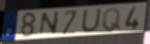4: (124, 4, 141, 31)
7: (62, 10, 79, 36)
8: (20, 11, 36, 39)
N: (38, 10, 61, 37)
Q: (102, 7, 122, 33)
U: (80, 7, 103, 34)
